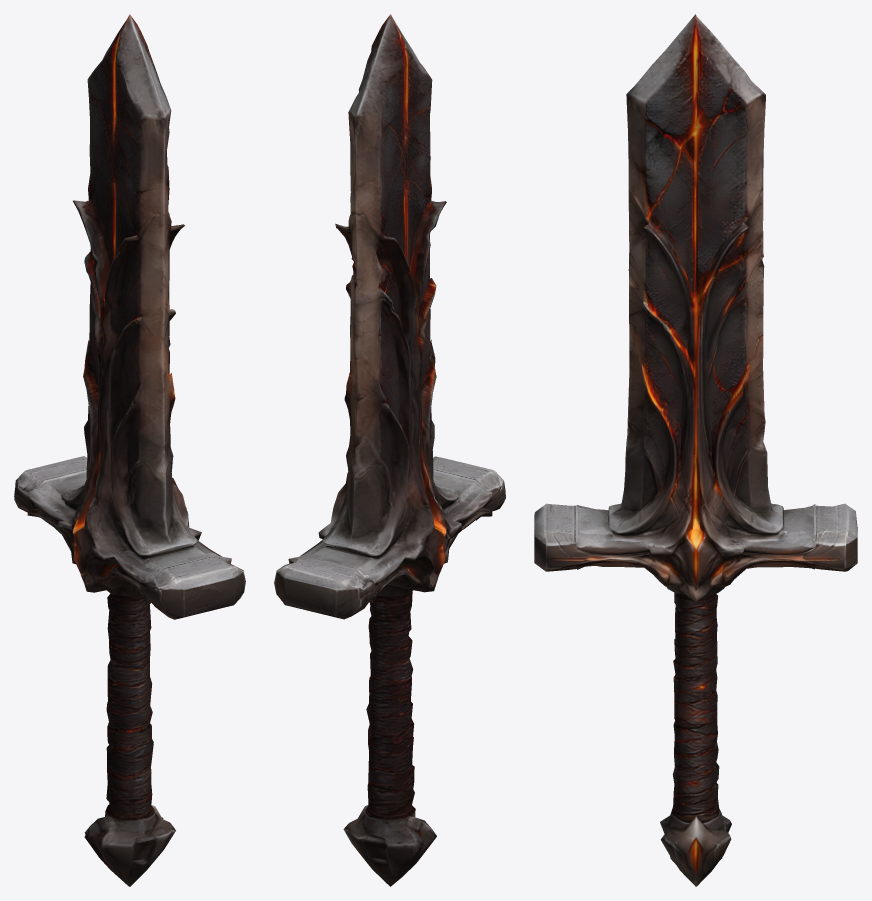
Rendered from w_ashen_great.glb.
The picture shows the model from 3 angles, left to right: view 1: azimuth 30°, elevation 25°; view 2: azimuth 150°, elevation 25°; view 3: azimuth 270°, elevation 25°; orthographic projection.
Parts seen in each view (by area): view 1: tripo_node_33be9d82-3f3b-49bc-b847-70f0777ca44f; view 2: tripo_node_33be9d82-3f3b-49bc-b847-70f0777ca44f; view 3: tripo_node_33be9d82-3f3b-49bc-b847-70f0777ca44f.
Boxes of the visible parts, left/top/right/bottom form: tripo_node_33be9d82-3f3b-49bc-b847-70f0777ca44f: left=14, top=14, right=245, bottom=886; tripo_node_33be9d82-3f3b-49bc-b847-70f0777ca44f: left=274, top=14, right=505, bottom=886; tripo_node_33be9d82-3f3b-49bc-b847-70f0777ca44f: left=534, top=14, right=857, bottom=886.
Size of the model in its own units: 0.136 by 1 by 0.3359.
1 material, 1 textured.
